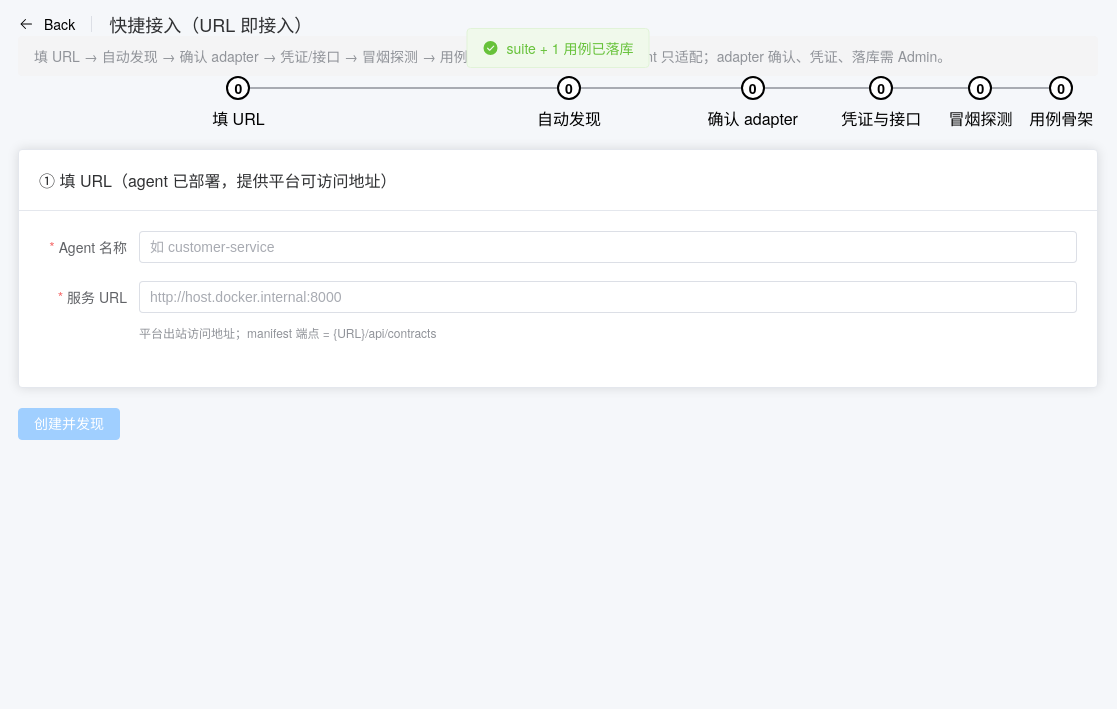
Test: 权限门控 › 非 Admin：Step2 确认 adapter 按钮禁用（isAdmin=false）
In the field with placeholder "如 customer-service": (608, 247) [150,232,1066,262], type "demo"
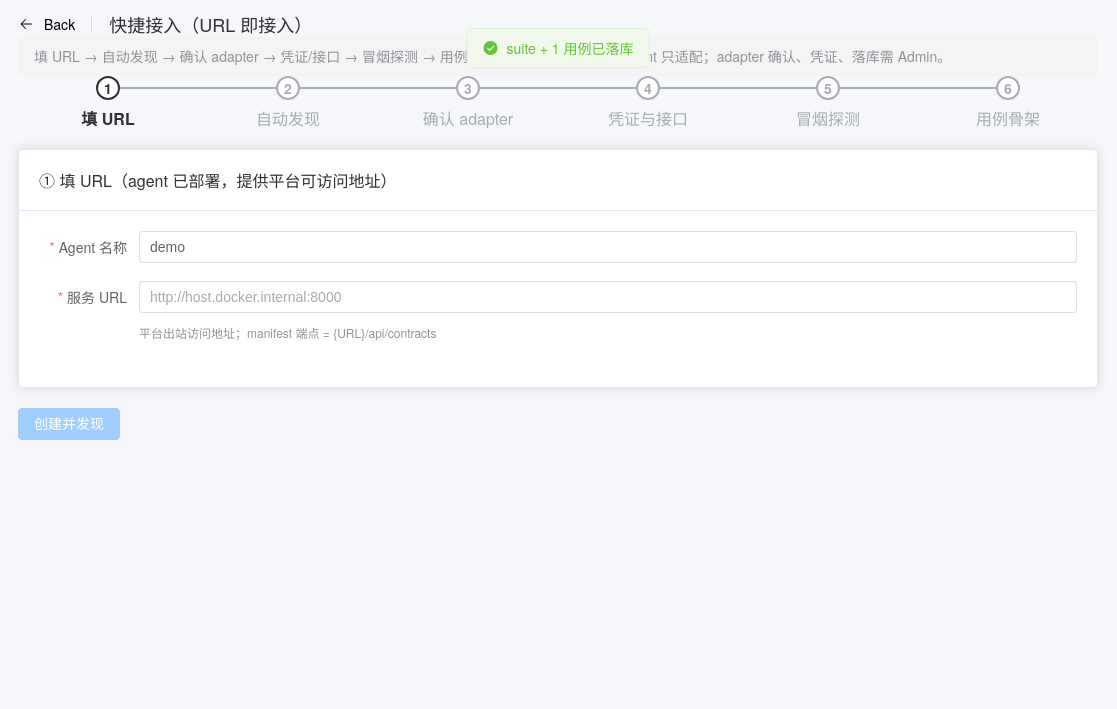
In the field labelled "服务 URL": (608, 297) [150,282,1066,312], type "http://localhost:8000"
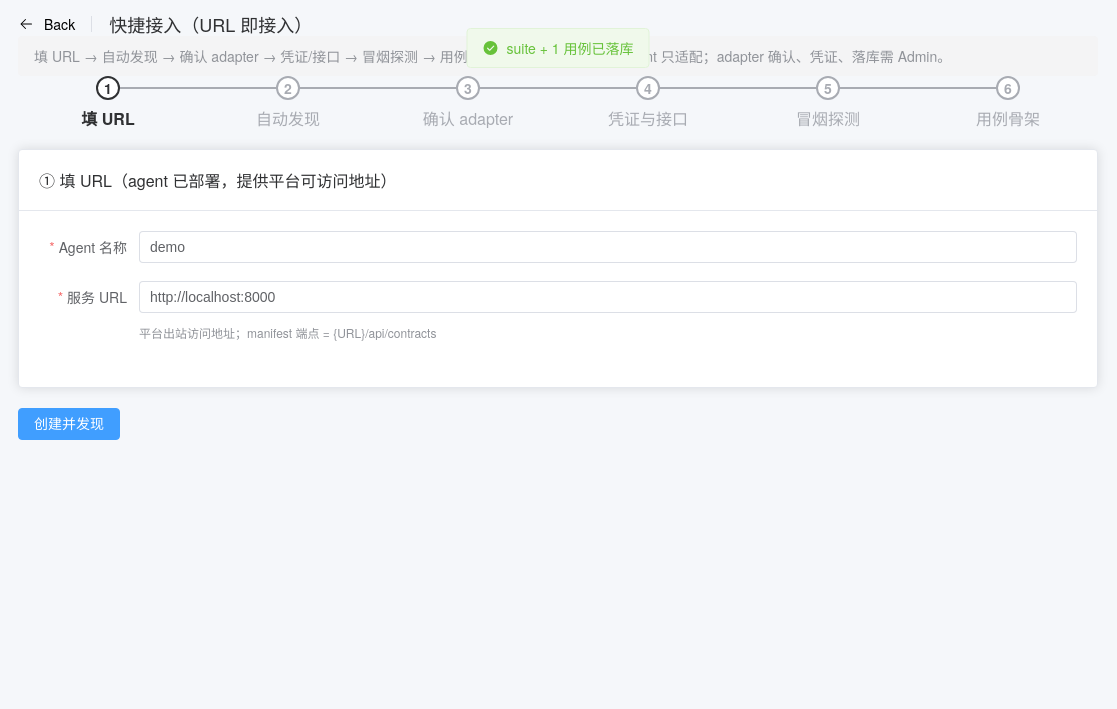
Click the button "创建并发现": (69, 424) [18,408,120,440]
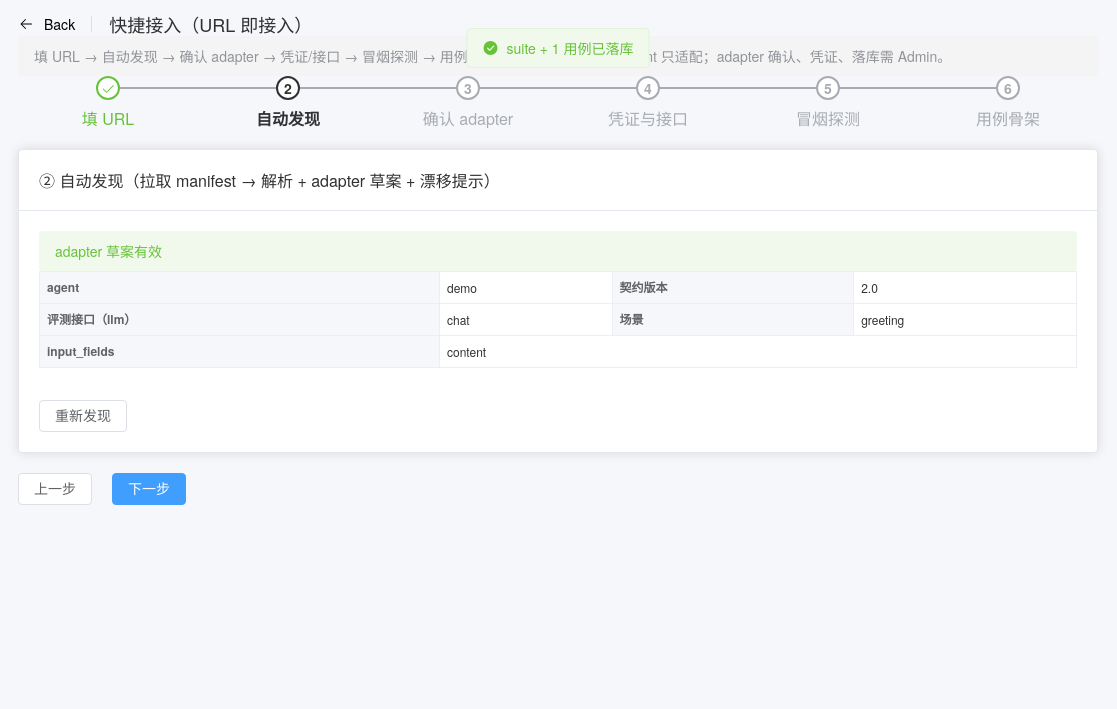
Click the button "下一步": (149, 489) [112,473,186,505]
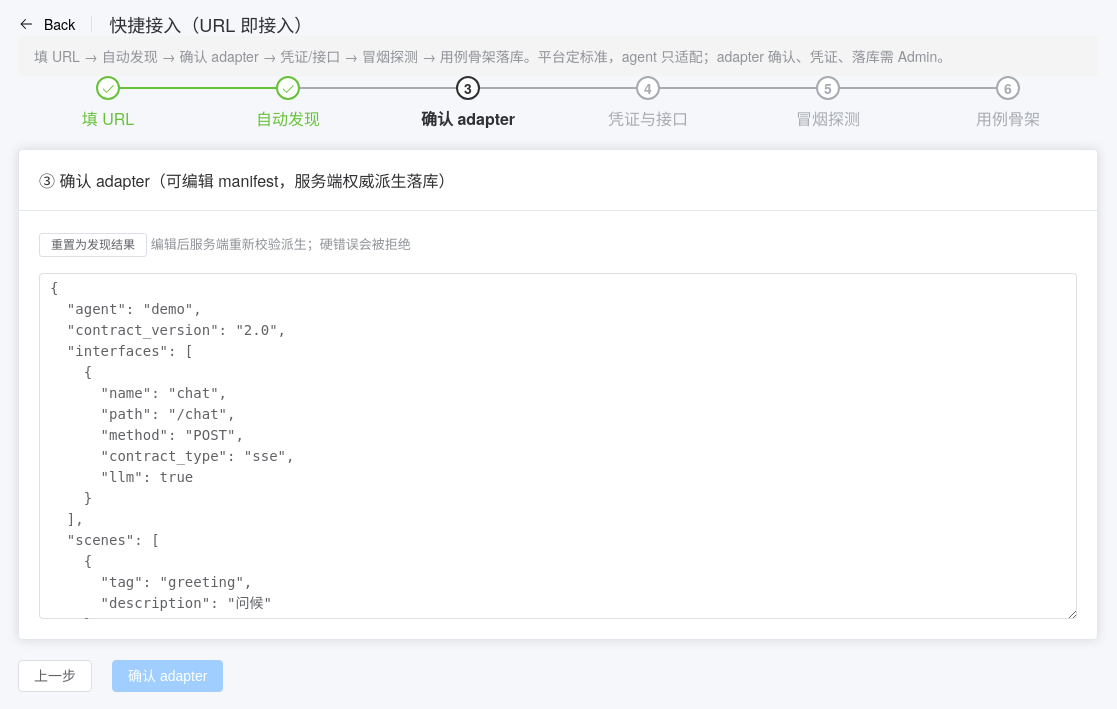
Now the button "确认 adapter" is disabled, box [112,660,223,692]
